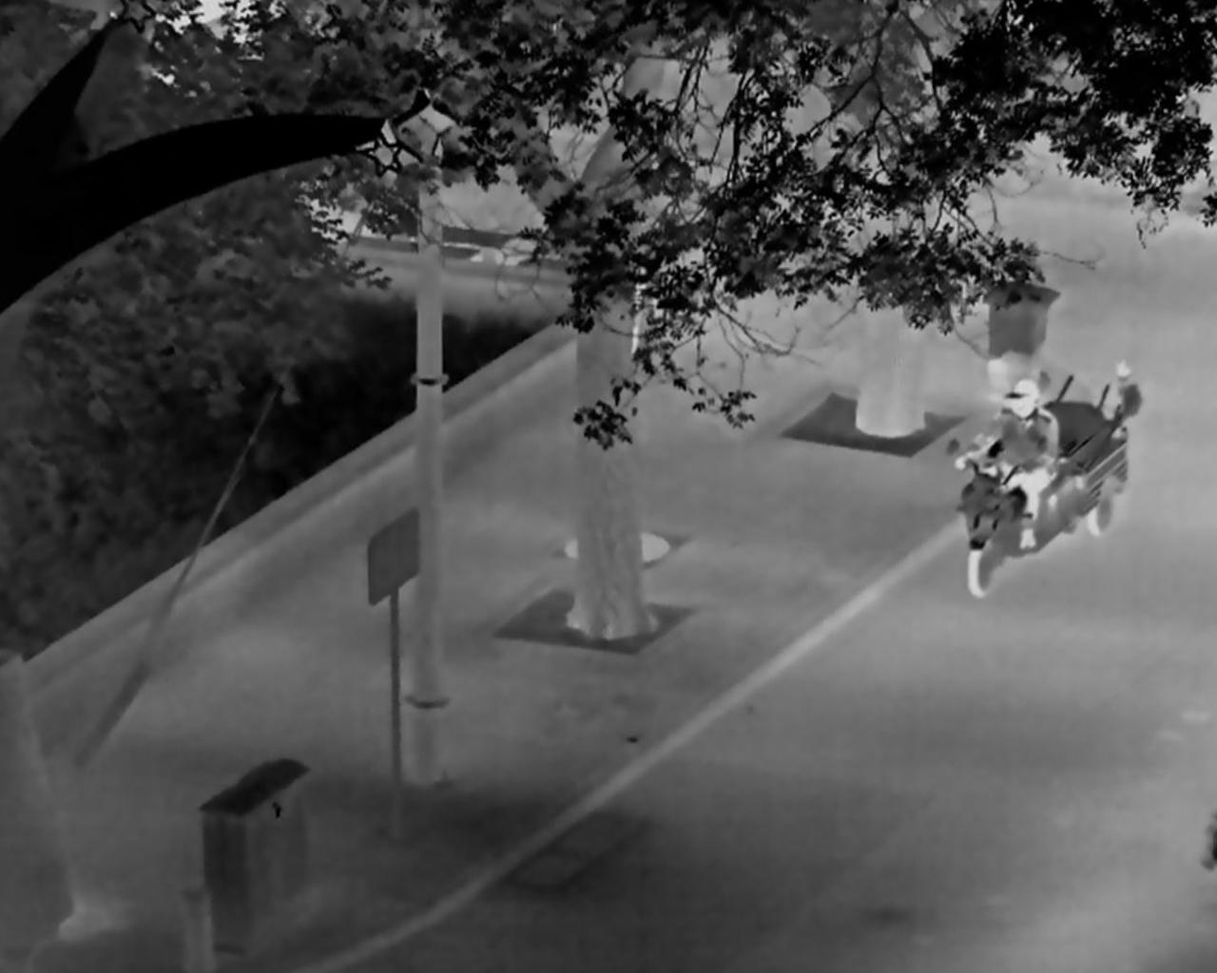person: (954, 379, 1054, 552)
